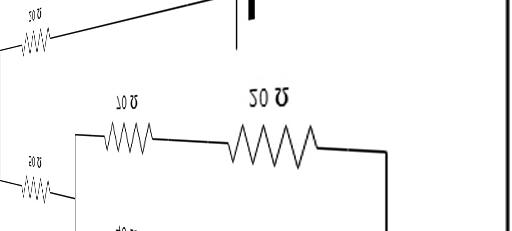resistor: (212, 113, 330, 171), (89, 117, 179, 149), (9, 15, 56, 61), (5, 174, 57, 201)
